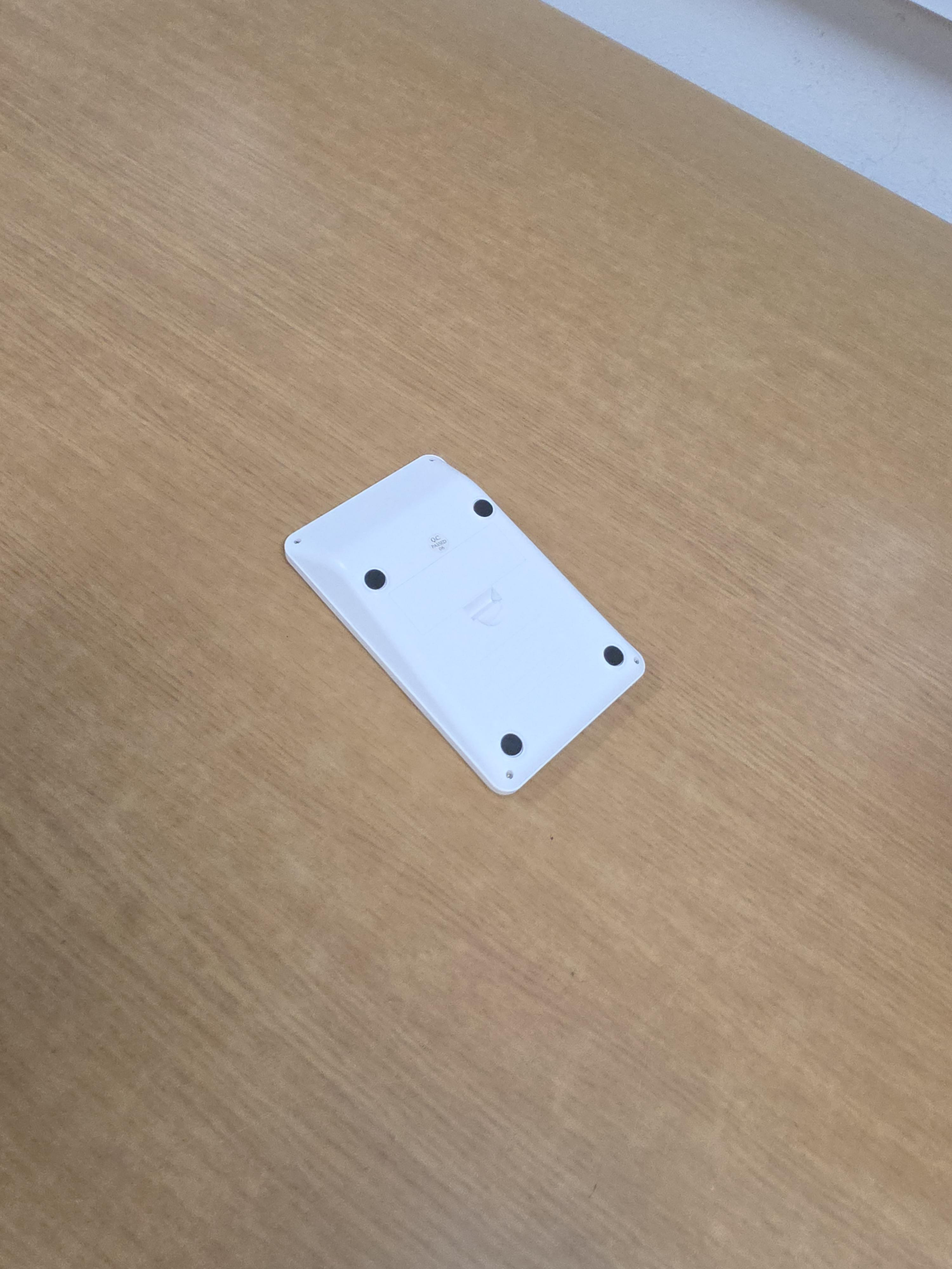calculator: (284, 454, 646, 796)
